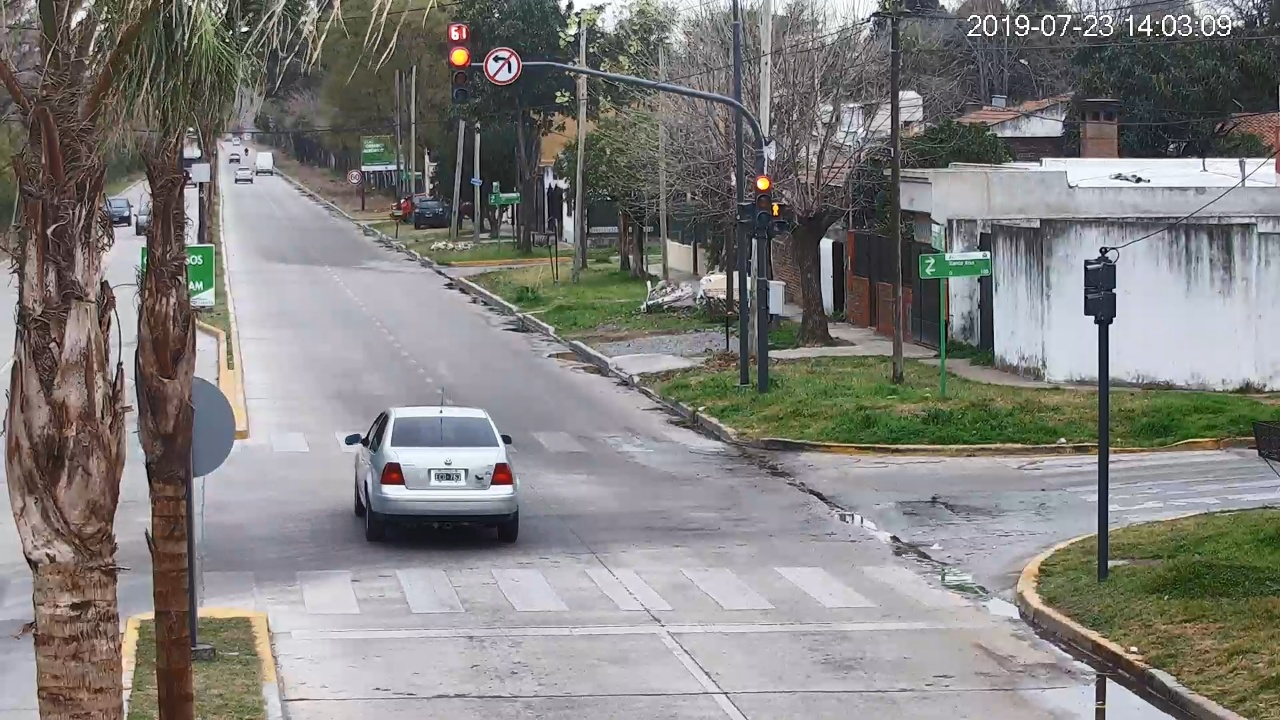car: (345, 406, 519, 543)
traffic light: (450, 45, 471, 102), (756, 175, 771, 225)
